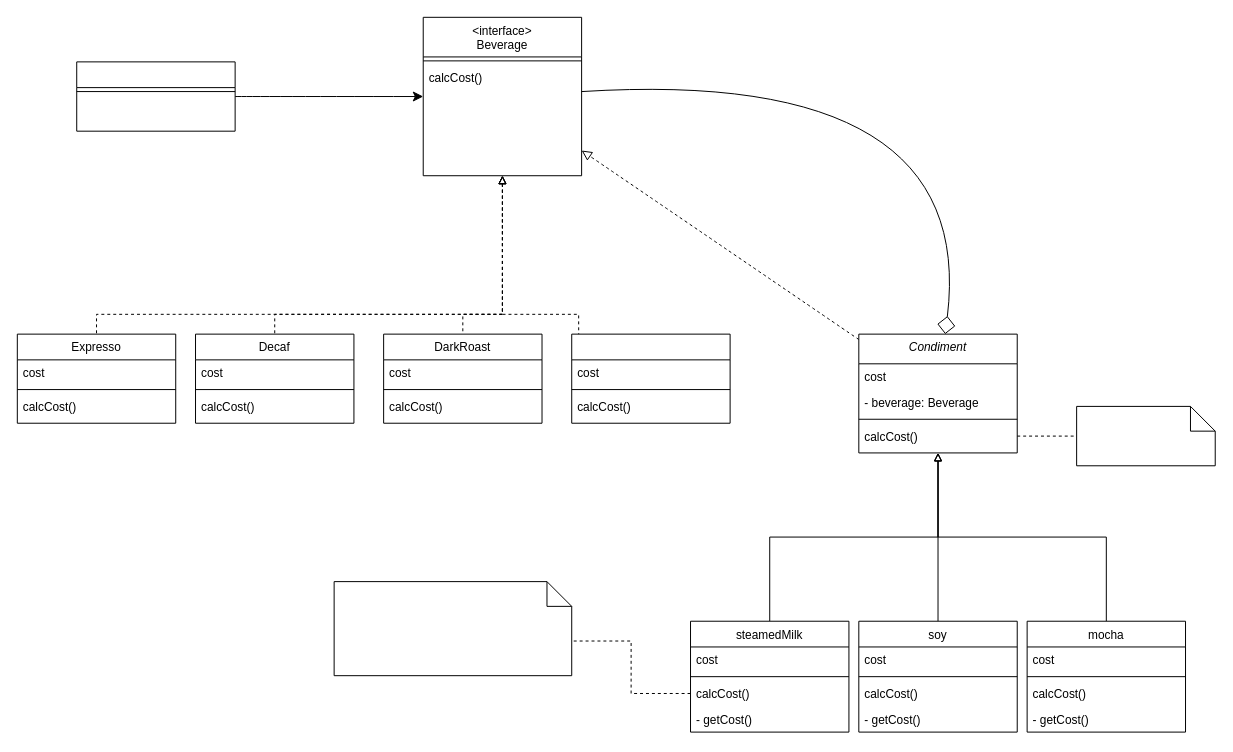
Image size: 1233x752. Some labels were removed from this diagram. The shapes that lost their labels are listed below. From the top down, each one's box as (x1, y1, x2, y2) in pixels, then its label:
(76, 61, 235, 131): Order system
(571, 333, 730, 423): HouseBlend
(1076, 405, 1215, 466): Beverage.calcCost()
(333, 581, 572, 676): cost = super.calcCost() cost += this.getCost() return cost
